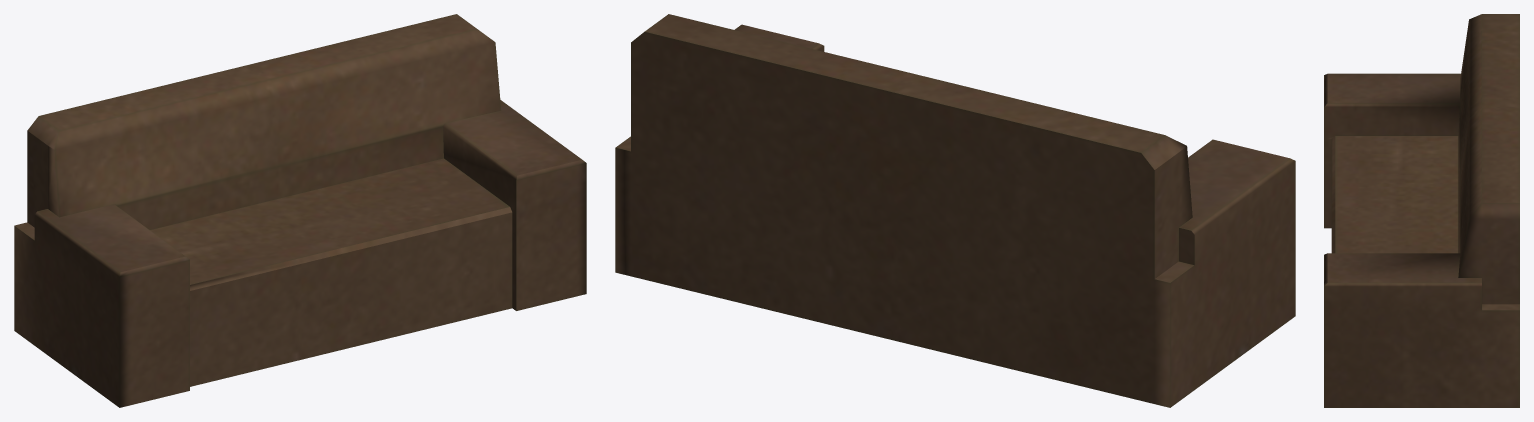
File: Couch.fbx
3 views of the same model, side by side, from view 1: azimuth 30°, elevation 25°; view 2: azimuth 150°, elevation 25°; view 3: azimuth 270°, elevation 25° (orthographic). The views are drawn at different scales.
Visible parts, largest first — view 1: Couch; view 2: Couch; view 3: Couch.
Part boxes in pixels (x1,y1,x2,y2): Couch: [14, 14, 586, 407]; Couch: [615, 14, 1295, 407]; Couch: [1324, 14, 1519, 407].
Bounding box in the file's own units: 238 × 101 × 92.9.
